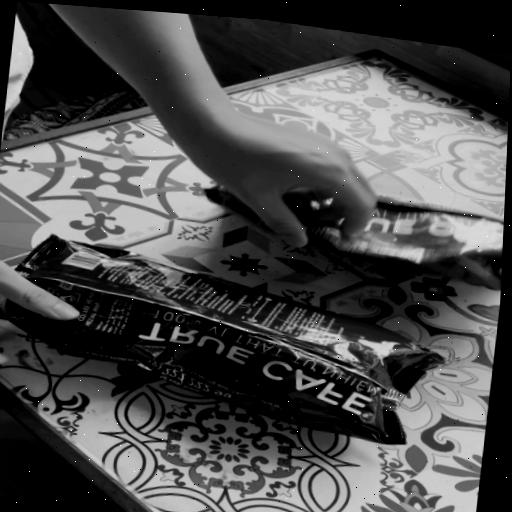cafe_hat: (2, 235, 450, 444)
cafe_xay: (289, 196, 504, 290), (206, 185, 268, 230)
